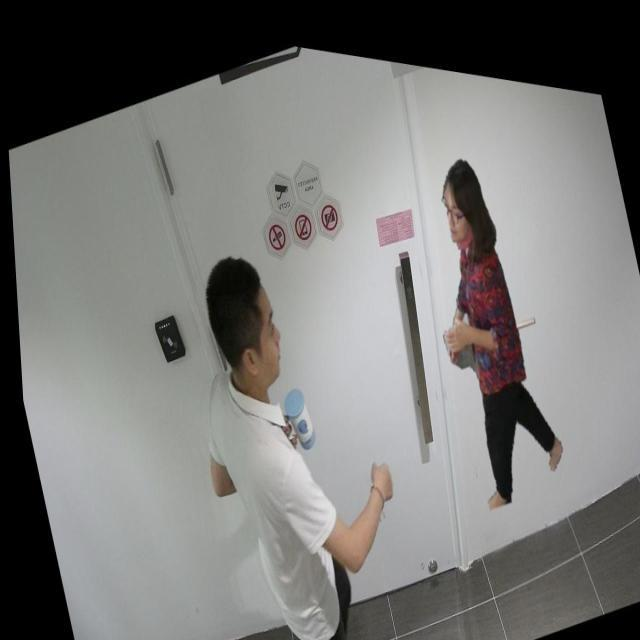hairnet: (442, 186, 474, 252)
